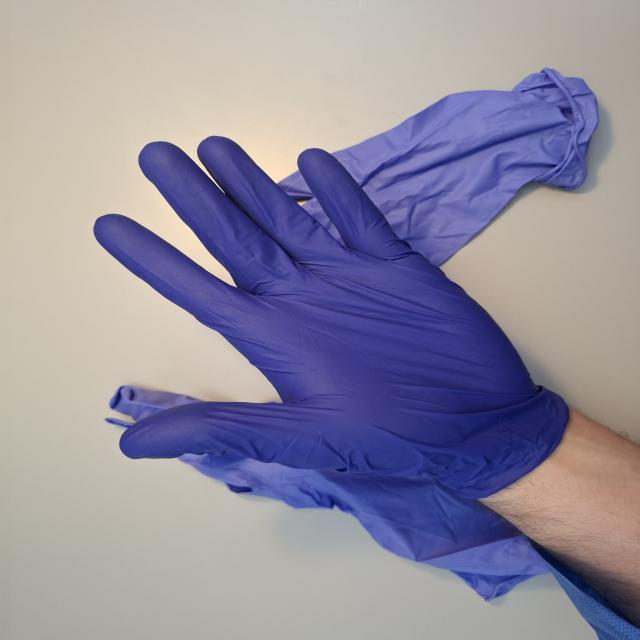glove_on: (91, 133, 567, 512)
